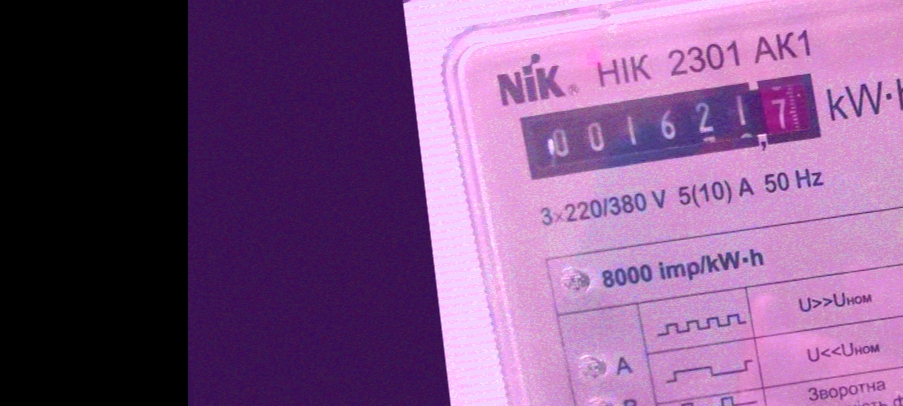0: (585, 114, 611, 153), (550, 120, 574, 156)
1: (733, 87, 752, 125), (624, 108, 642, 145)
2: (694, 95, 719, 133)
6: (658, 103, 681, 139)
7: (769, 91, 793, 129)
screen: (515, 66, 831, 183)
